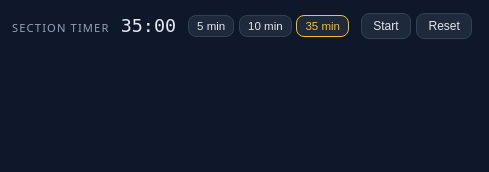
SectionTimer › offers 5 / 10 / 35 minute drill presets
What coordinates should you click on to do the following:
click the radio button labelled "10 min"
I would click on:
 (265, 26)
Its box is [239,15,292,37].
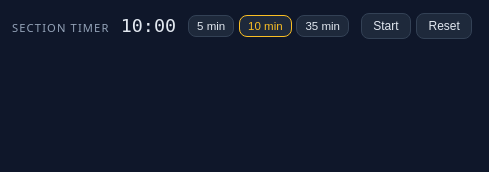
Check: the text "10:00" is shown, box [121,12,176,40]
